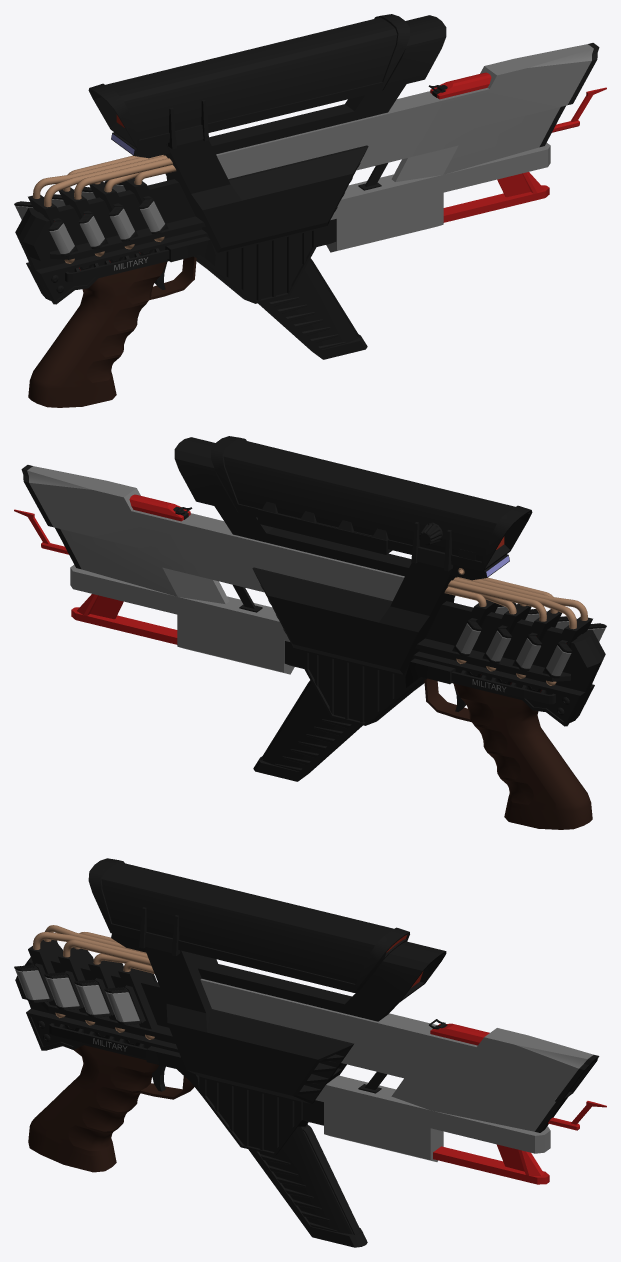
The model's file is Weapon.FBX.
3 views of the same model, one above another, from view 1: azimuth 30°, elevation 25°; view 2: azimuth 150°, elevation 25°; view 3: azimuth 330°, elevation 25° (orthographic).
Parts seen in each view (by area): view 1: Object008; view 2: Object008; view 3: Object008.
Boxes of the visible parts, x1,y1,x2,y2 form: Object008: (14, 14, 606, 407); Object008: (14, 436, 606, 829); Object008: (14, 858, 606, 1247).
Bounding box in the file's own units: 52.5 × 27.2 × 6.18.
